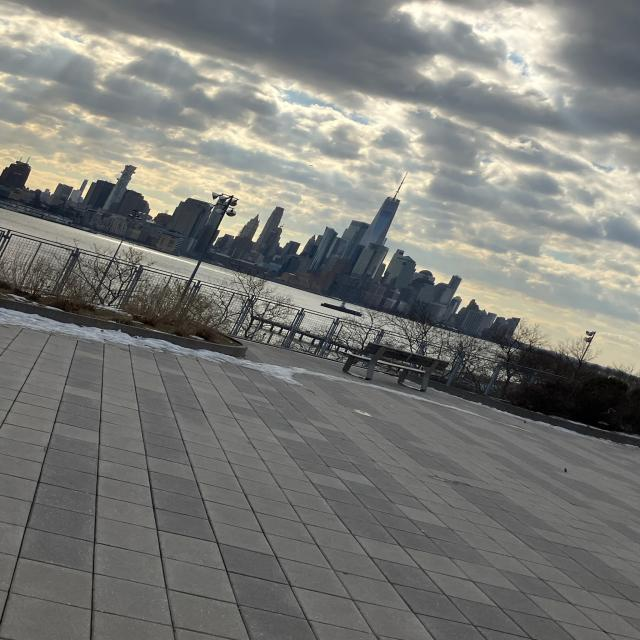WTC: (359, 169, 414, 245)
